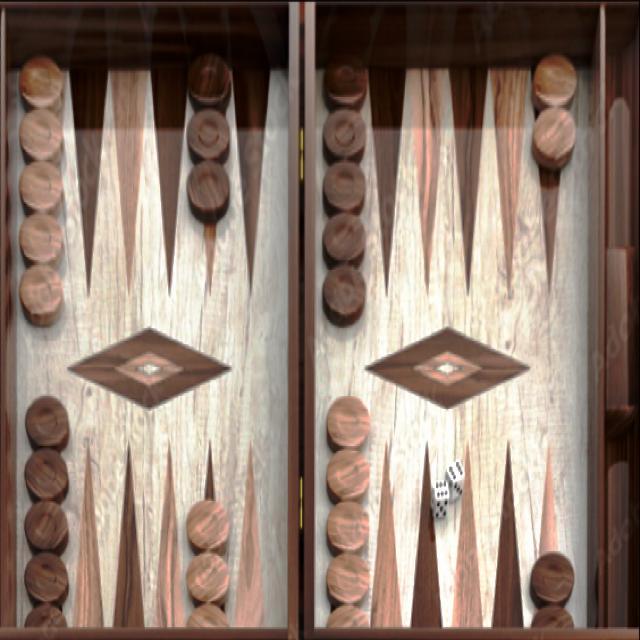bar: (289, 39, 314, 623)
board: (5, 30, 605, 636)
dark_p: (184, 161, 233, 225), (322, 261, 368, 329), (322, 48, 370, 108), (322, 156, 369, 217), (528, 549, 576, 606), (186, 51, 232, 110), (322, 105, 370, 161), (24, 393, 70, 451), (23, 497, 69, 555), (24, 445, 70, 502), (24, 548, 68, 606), (185, 109, 232, 162), (322, 211, 368, 265), (530, 599, 576, 631), (24, 607, 70, 631)
dice: (444, 456, 467, 505), (432, 476, 451, 520)
light_p: (18, 48, 65, 116), (531, 104, 580, 169), (530, 46, 580, 109), (19, 260, 64, 328), (322, 447, 373, 502), (19, 156, 64, 218), (184, 498, 233, 553), (323, 502, 372, 557), (19, 105, 65, 163), (18, 211, 64, 269), (322, 394, 372, 447), (324, 553, 370, 604), (186, 552, 232, 602), (326, 604, 374, 632), (187, 603, 231, 632)
